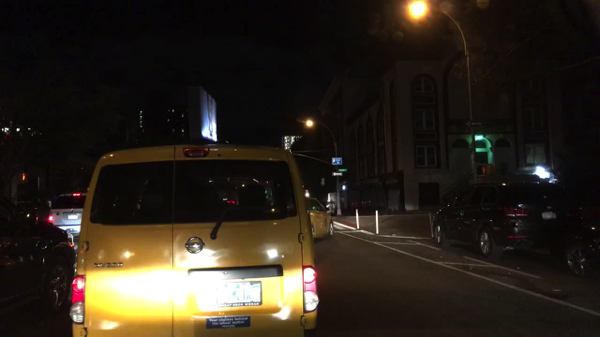car: (68, 140, 320, 337), (432, 176, 574, 261), (1, 195, 77, 336), (567, 196, 599, 279), (47, 189, 93, 238), (304, 196, 337, 241)
traffic light: (477, 162, 492, 174), (19, 169, 27, 182), (340, 183, 348, 191)
traffic sign: (465, 120, 483, 127), (330, 157, 341, 165), (331, 173, 342, 178), (338, 168, 347, 172)
